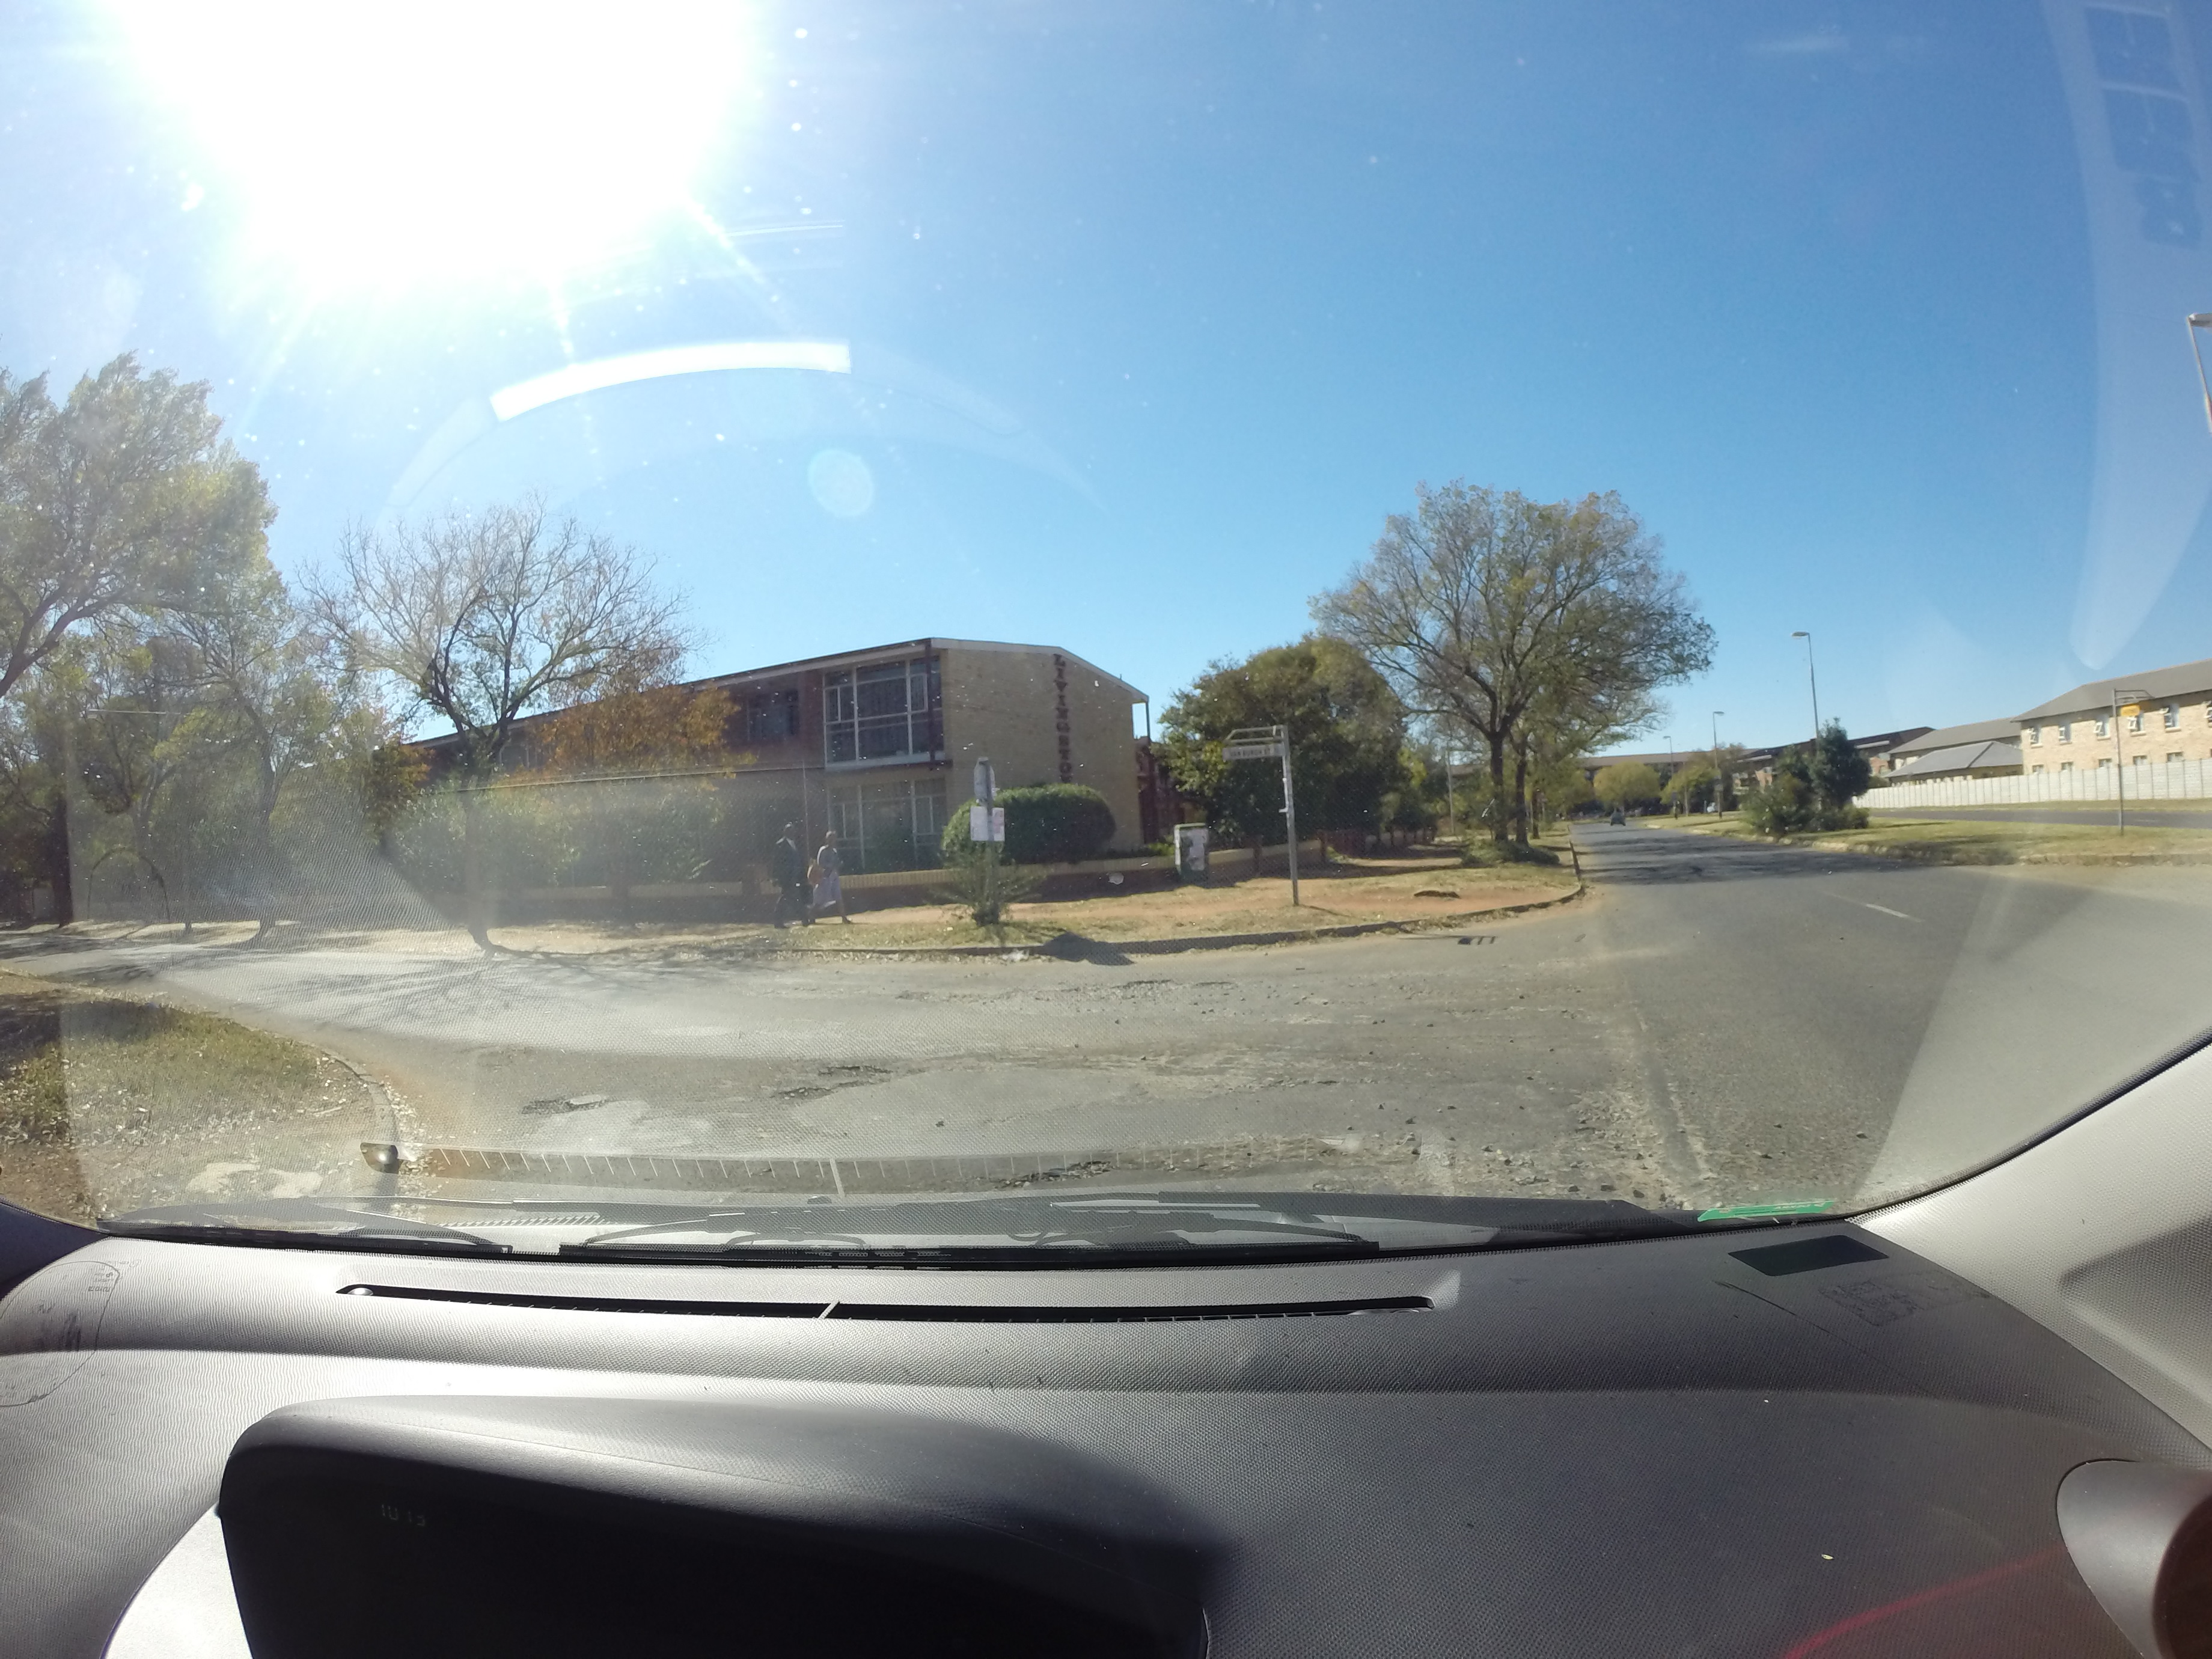pothole: (702, 1026, 977, 1162), (479, 1042, 641, 1164)
